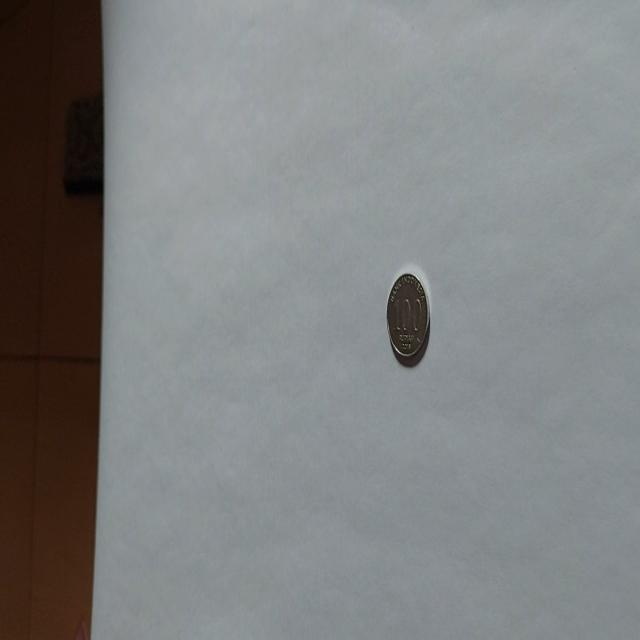seratus rupiah: (386, 270, 430, 366)
